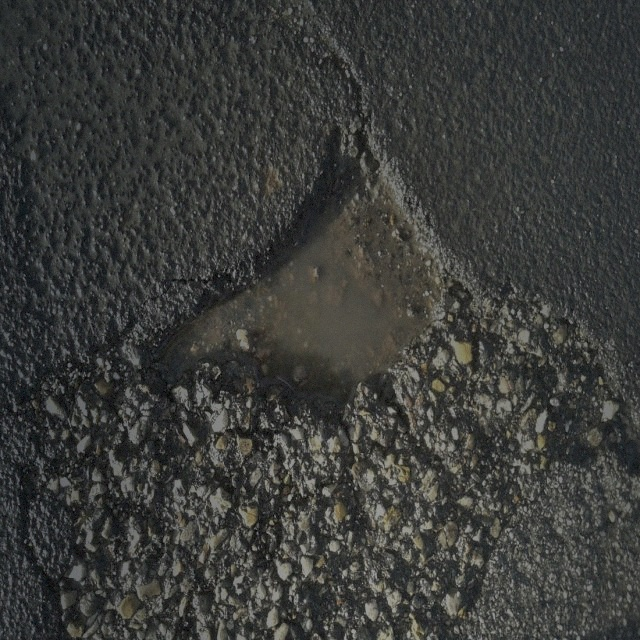pothole: (137, 127, 461, 417)
